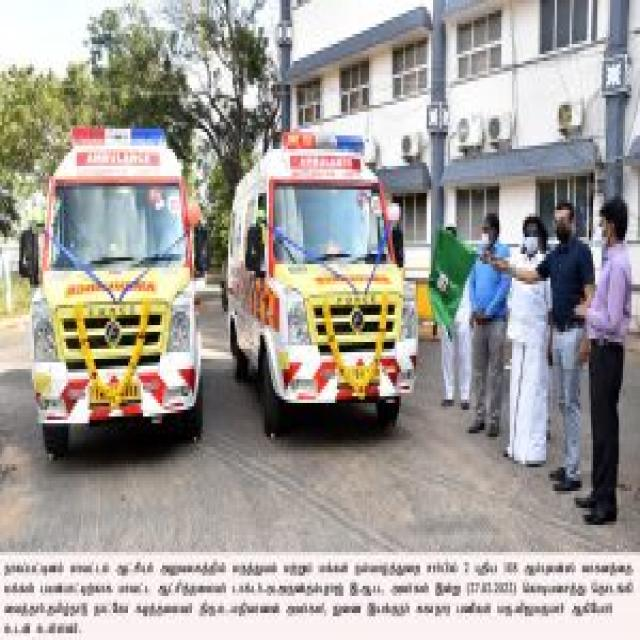ambulance: (29, 127, 205, 442), (227, 129, 418, 416)
